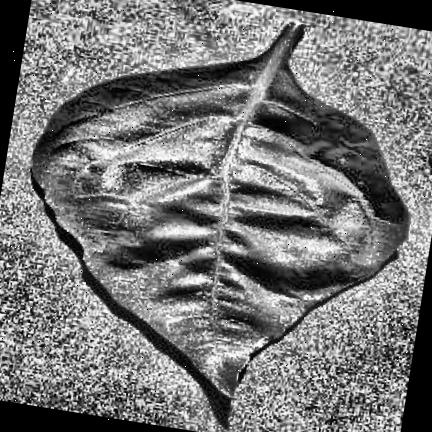leaf: (32, 26, 407, 401)
